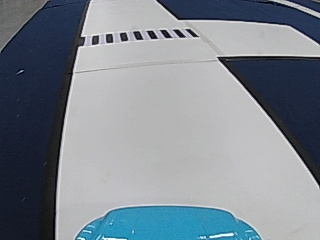CrossWalk: (80, 27, 198, 45)
